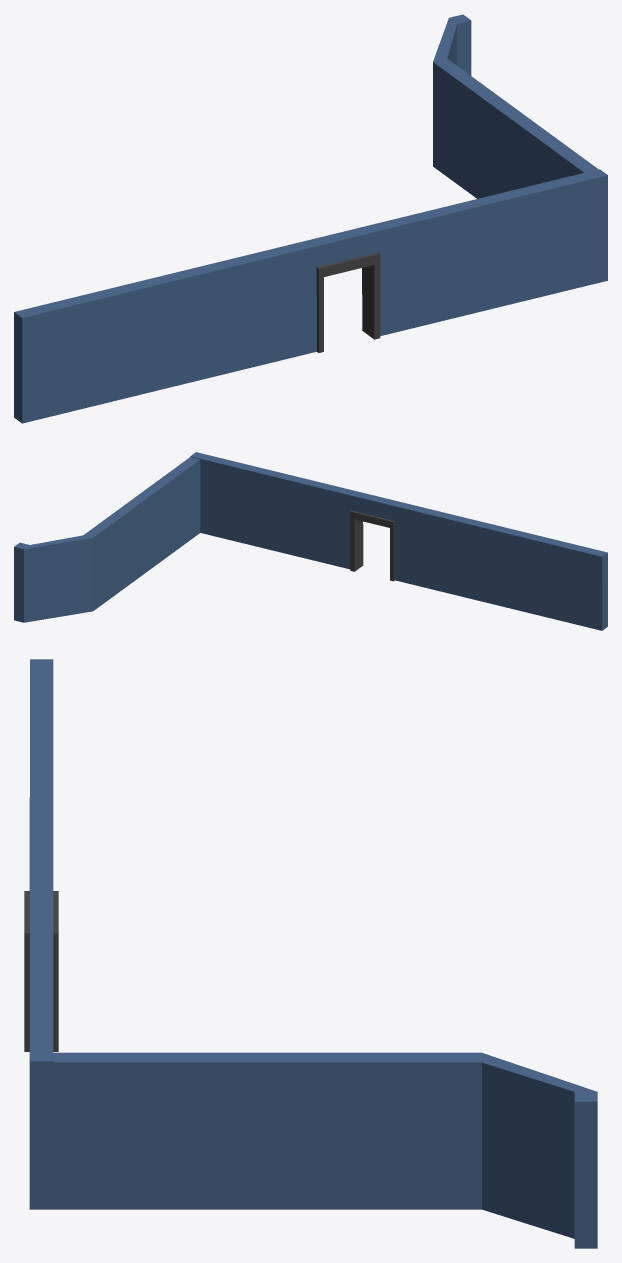
Rendered from Structure_Wall_FrontWall_BottomFloor_fbx_v01.fbx.
3 views of the same model, one above another, from view 1: azimuth 30°, elevation 25°; view 2: azimuth 150°, elevation 25°; view 3: azimuth 270°, elevation 25° (orthographic). The views are drawn at different scales.
Parts seen in each view (by area): view 1: Wall_Front_BottomFloor; view 2: Wall_Front_BottomFloor; view 3: Wall_Front_BottomFloor.
Boxes of the visible parts, x1,y1,x2,y2 form: Wall_Front_BottomFloor: [14, 14, 607, 423]; Wall_Front_BottomFloor: [14, 452, 607, 630]; Wall_Front_BottomFloor: [24, 659, 597, 1248].
Bounding box in the file's own units: 4503 × 706 × 2474.
